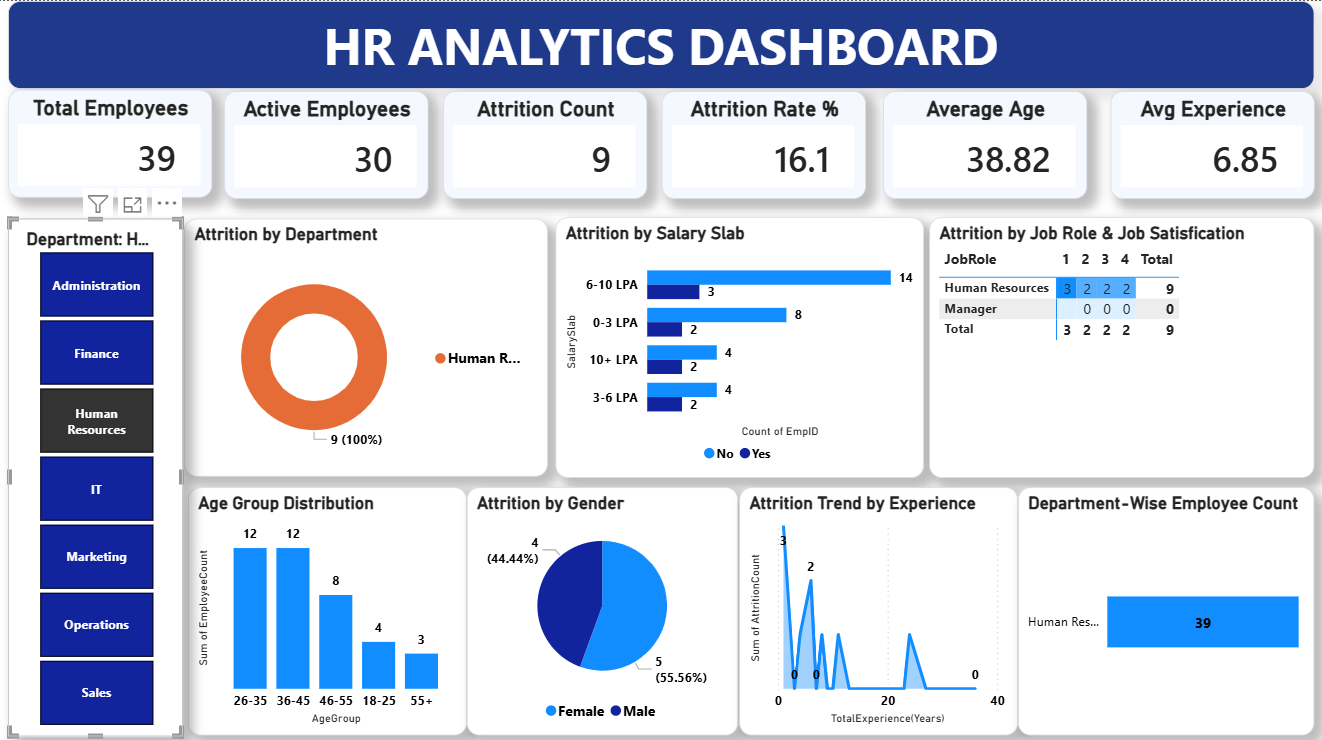

The dashboard page shown, as its layout file describes it:
{"tool":"powerbi","page":{"name":"Page 1","canvas":[1280,720],"ordinal":0},"visuals":[{"type":"textbox","box":[10,0,1259,85],"z":0},{"type":"cardVisual","title":"Total Employees","fields":{"Data":["CountNonNull(HR_Analytics-4.EmpID)"]},"box":[9.8,85.6,196.9,103.9],"z":1000},{"type":"cardVisual","title":"Active Employees","fields":{"Data":["CountNonNull(HR_Analytics-4.EmployeeCount)"]},"box":[217.7,86.8,196.9,103.9],"z":2000},{"type":"cardVisual","title":"Attrition Count","fields":{"Data":["Sum(HR_Analytics-4.AttritionCount)"]},"box":[429.2,86.8,196.9,103.9],"z":3000},{"type":"cardVisual","title":"Attrition Rate %","fields":{"Data":["HR_Analytics-4.Attrition Rate %"]},"box":[639.5,86.8,196.9,103.9],"z":4000},{"type":"cardVisual","title":"Average Age","fields":{"Data":["Avg(HR_Analytics-4.Age)"]},"box":[853.5,86.8,196.9,103.9],"z":5000},{"type":"cardVisual","title":"Avg Experience","fields":{"Data":["Avg(HR_Analytics-4.YearsatCompany)"]},"box":[1072.4,86.8,196.9,103.9],"z":6000},{"type":"donutChart","title":"Attrition by Department","fields":{"Category":["HR_Analytics-4.Department"],"Y":["Sum(HR_Analytics-4.AttritionCount)"]},"box":[179,210,350,249],"z":7000},{"type":"clusteredBarChart","title":"Attrition by Salary Slab","fields":{"Category":["HR_Analytics-4.SalarySlab"],"Y":["CountNonNull(HR_Analytics-4.EmpID)"],"Series":["HR_Analytics-4.Attrition"]},"box":[537,209,355,251],"z":8000},{"type":"pivotTable","title":"Attrition by Job Role & Job Satisfication","fields":{"Rows":["HR_Analytics-4.JobRole"],"Values":["Sum(HR_Analytics-4.AttritionCount)"],"Columns":["HR_Analytics-4.JobSatisfaction"]},"box":[898,209,371,251],"z":9000},{"type":"columnChart","title":"Age Group Distribution","fields":{"Category":["HR_Analytics-4.AgeGroup"],"Y":["Sum(HR_Analytics-4.EmployeeCount)"]},"box":[183.1,469,269,239.4],"z":10000},{"type":"pieChart","title":"Attrition by Gender","fields":{"Category":["HR_Analytics-4.Gender"],"Y":["Sum(HR_Analytics-4.AttritionCount)"]},"box":[452.1,469,262,239.4],"z":11000},{"type":"areaChart","title":"Attrition Trend by Experience","fields":{"Category":["HR_Analytics-4.TotalExperience(Years)"],"Y":["Sum(HR_Analytics-4.AttritionCount)"]},"box":[714.1,469,269,239.4],"z":12000},{"type":"funnel","title":"Department-Wise Employee Count","fields":{"Category":["HR_Analytics-4.Department"],"Y":["CountNonNull(HR_Analytics-4.EmpID)"]},"box":[983.1,469,285.9,239.4],"z":13000},{"type":"slicer","fields":{"Values":["HR_Analytics-4.Department"]},"box":[9.6,209.6,168.7,500],"z":14000}]}

Visuals, with their boxes in screenshot pixels (x1, y1, x2, y2), scaled from the page's 1280x720 canvas onto the 1322x740 screenshot:
textbox: [left=10, top=0, right=1311, bottom=87]
"Total Employees" cardVisual: [left=10, top=88, right=213, bottom=195]
"Active Employees" cardVisual: [left=225, top=89, right=428, bottom=196]
"Attrition Count" cardVisual: [left=443, top=89, right=647, bottom=196]
"Attrition Rate %" cardVisual: [left=660, top=89, right=864, bottom=196]
"Average Age" cardVisual: [left=882, top=89, right=1085, bottom=196]
"Avg Experience" cardVisual: [left=1108, top=89, right=1311, bottom=196]
"Attrition by Department" donutChart: [left=185, top=216, right=546, bottom=472]
"Attrition by Salary Slab" clusteredBarChart: [left=555, top=215, right=921, bottom=473]
"Attrition by Job Role & Job Satisfication" pivotTable: [left=927, top=215, right=1311, bottom=473]
"Age Group Distribution" columnChart: [left=189, top=482, right=467, bottom=728]
"Attrition by Gender" pieChart: [left=467, top=482, right=738, bottom=728]
"Attrition Trend by Experience" areaChart: [left=738, top=482, right=1015, bottom=728]
"Department-Wise Employee Count" funnel: [left=1015, top=482, right=1311, bottom=728]
slicer - HR_Analytics-4.Department: [left=10, top=215, right=184, bottom=729]
